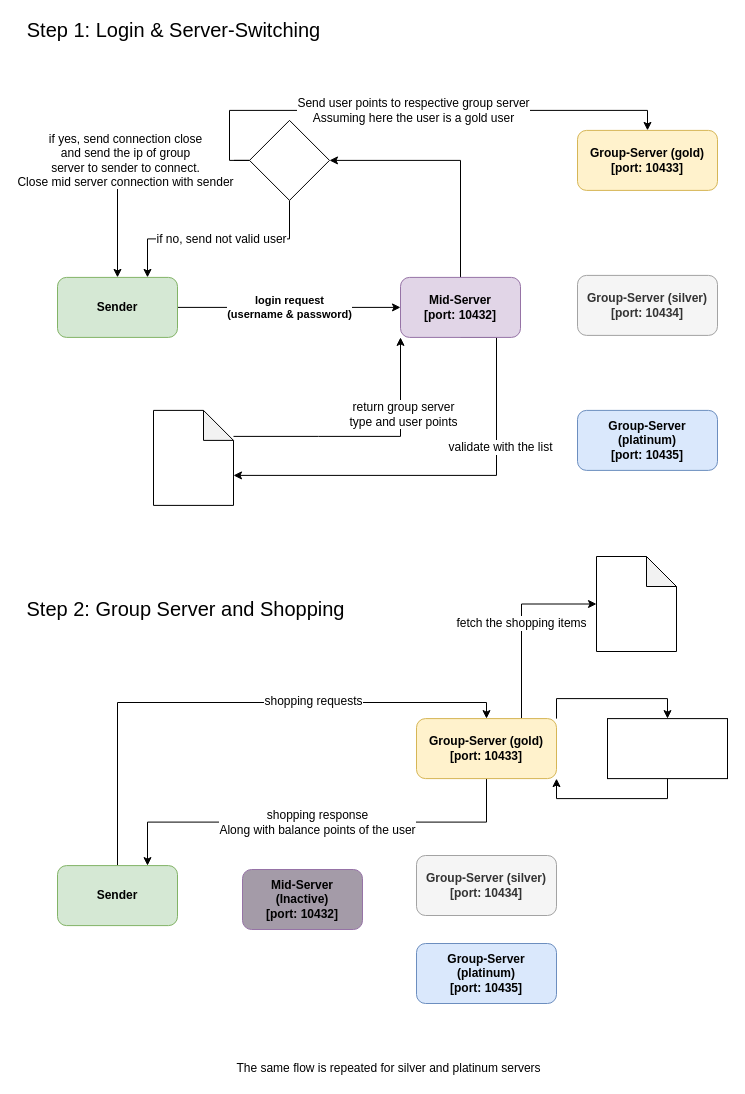
Image size: 745x1094. Some labels were removed from this diagram. The centre of each missing label's shape, as x and y in pixels:
After purchasing item subtract item points from user points: point 667,748
gold.txt: point 636,604
user valid ?: point 289,159
userList.txt: point 193,457
